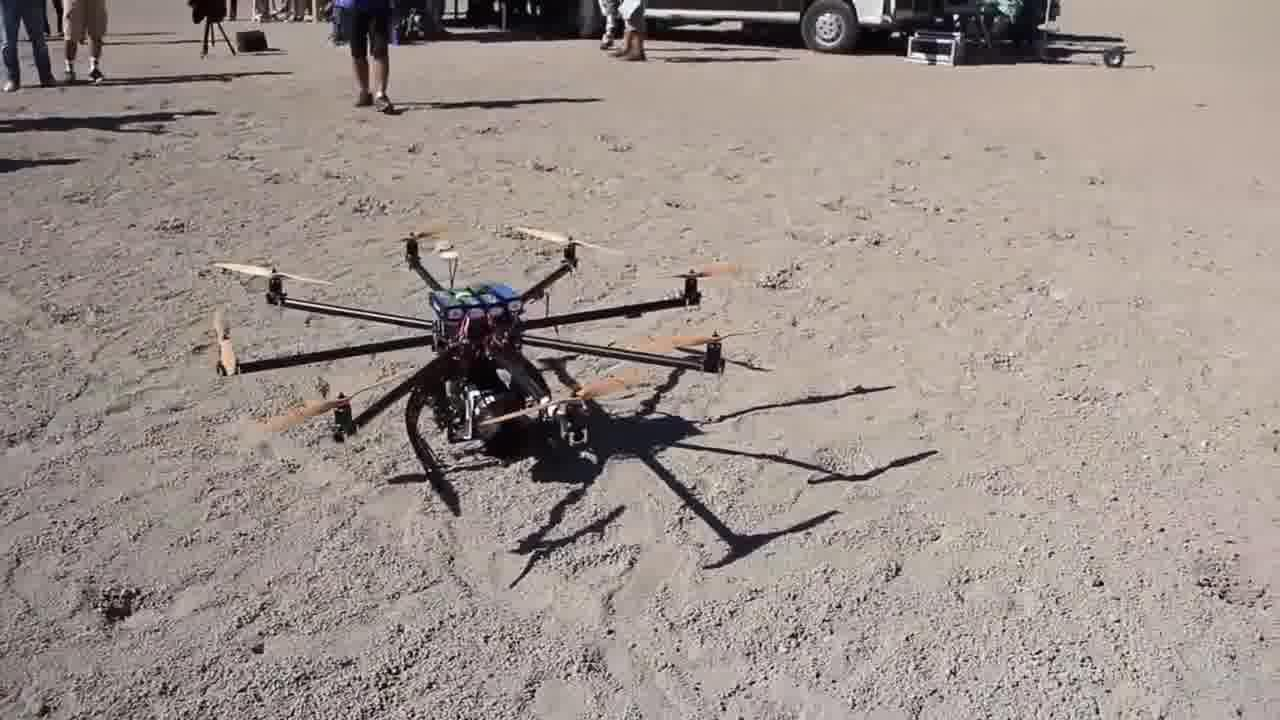drone: (215, 204, 741, 491)
